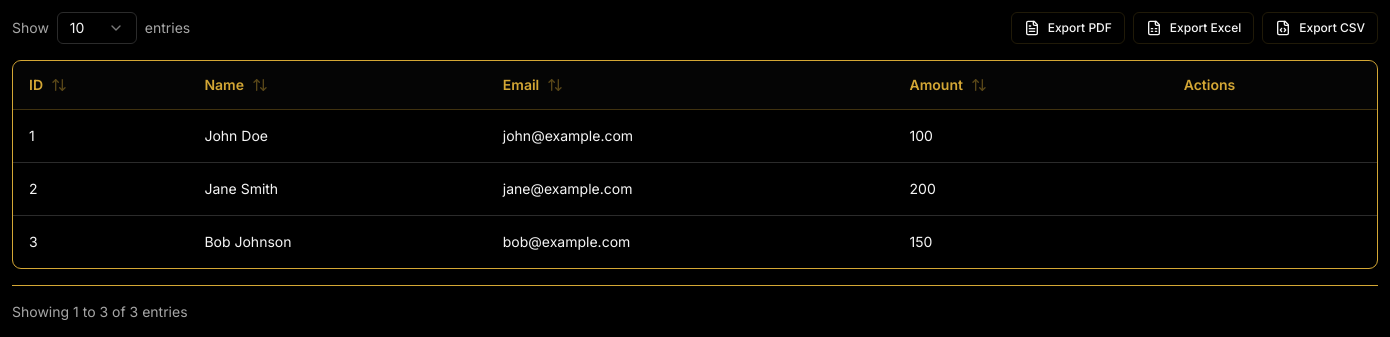
Test: DataTable › sorts numeric values correctly
This screenshot has width=1390, height=337.
Click the button "Amount" at (948, 85), box top-left (910, 75), bottom-right (987, 95)
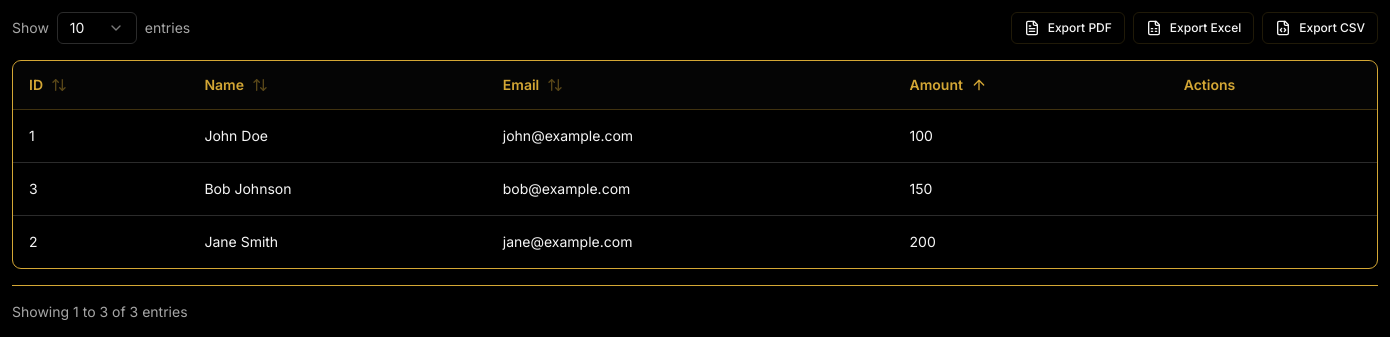
Expected: the row with test id "^row-" shows "100", top-left (910, 126), bottom-right (933, 144)
Result: the row with test id "^row-" shows "150" at top-left (910, 180), bottom-right (932, 196)
Result: the row with test id "^row-" shows "200" at top-left (910, 232), bottom-right (936, 250)
